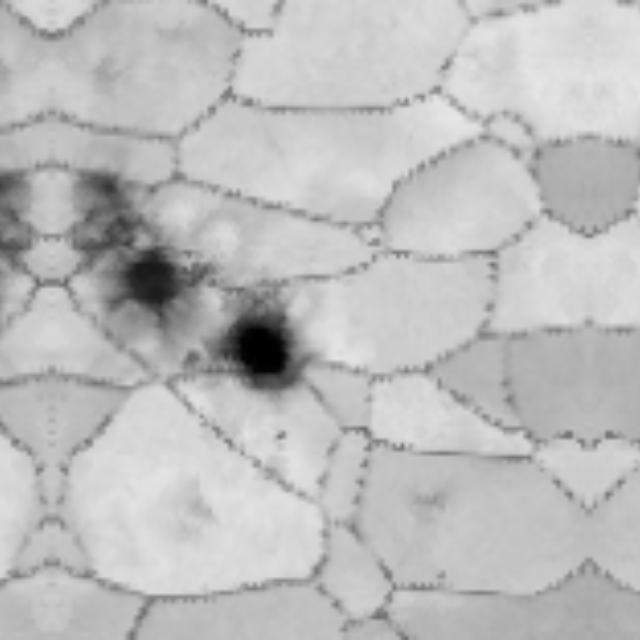good_void: (54, 156, 216, 336), (207, 265, 323, 393), (108, 468, 217, 569), (0, 159, 48, 321), (399, 469, 462, 549), (180, 339, 204, 375), (273, 424, 294, 444)
